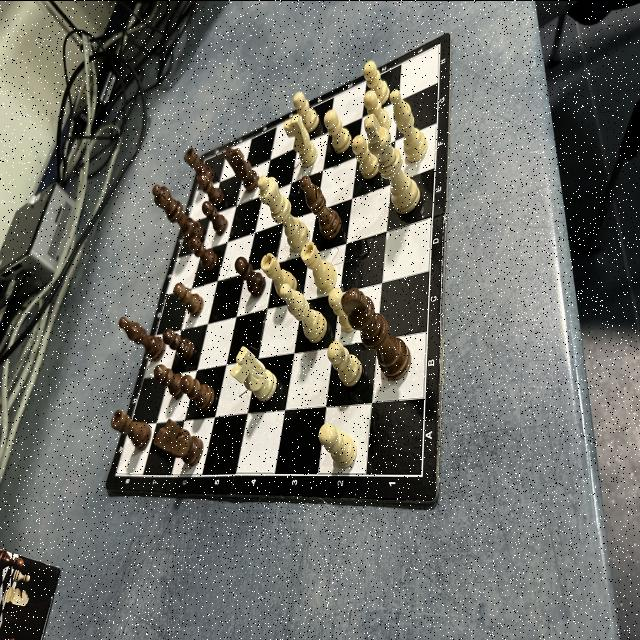Black-Bishop: (299, 173, 342, 240), (118, 314, 166, 360)
Black-King: (341, 286, 412, 380)
Black-Knight: (154, 416, 204, 466), (223, 146, 260, 192)
Black-Pawn: (180, 373, 216, 411), (234, 256, 266, 296), (164, 324, 196, 360), (154, 362, 186, 398), (188, 235, 218, 271), (173, 282, 203, 316), (198, 172, 224, 208), (202, 200, 228, 234)
Black-Queen: (152, 182, 204, 242)
Black-Rook: (110, 407, 152, 449), (183, 146, 216, 182)
White-Bishop: (280, 282, 328, 342), (390, 88, 428, 162)
White-King: (364, 112, 420, 214)
White-Knight: (230, 346, 278, 402), (284, 113, 318, 167)
White-Pawn: (318, 421, 357, 467), (327, 339, 363, 386), (328, 286, 356, 332), (351, 133, 379, 179), (324, 109, 352, 153), (293, 91, 320, 133), (364, 89, 392, 129), (363, 59, 390, 98)
White-Queen: (258, 174, 310, 252)
White-Rook: (300, 240, 338, 294), (261, 251, 298, 299)
